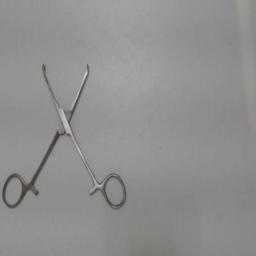Allis Tissue Forceps: (0, 58, 130, 214)
